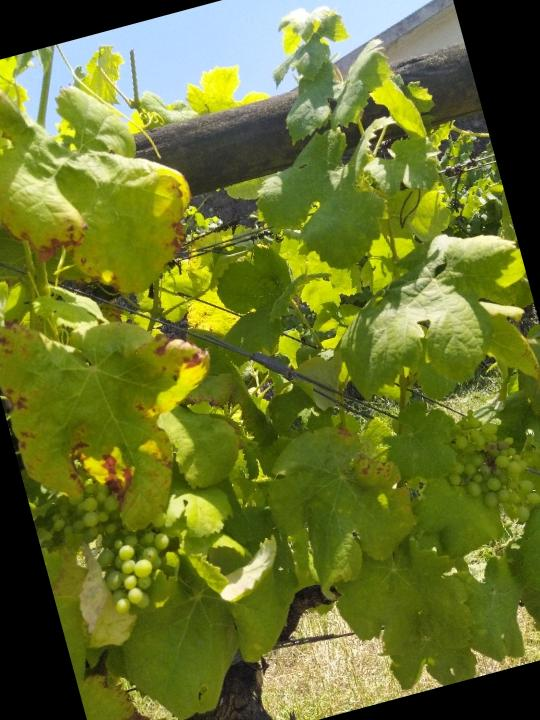grape: (62, 459, 188, 622), (432, 402, 540, 540)
